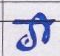i_matra: (35, 12, 49, 43)
